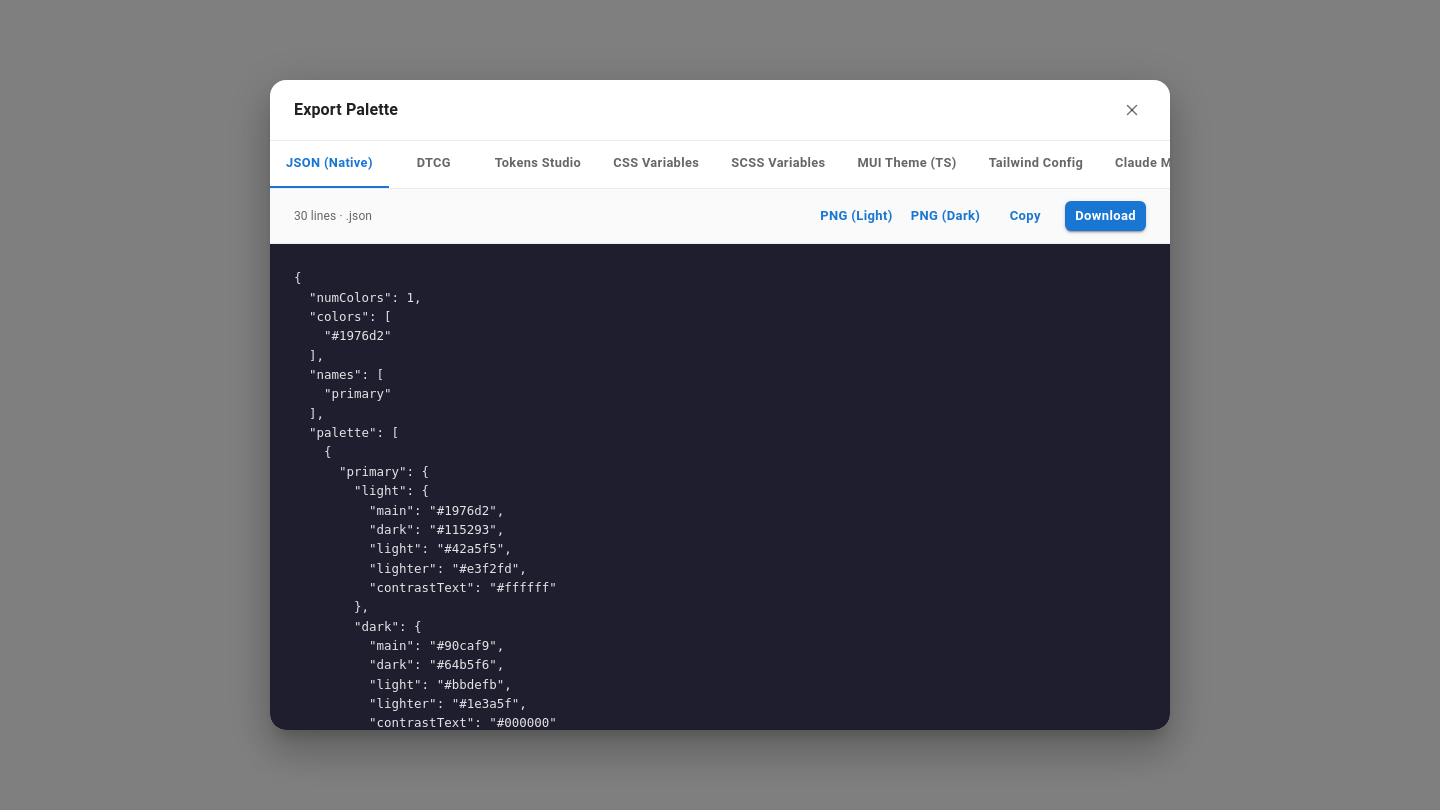
ExportHubDialog › switches to MUI Theme tab and shows TS code
The image size is (1440, 810).
What coordinates should you click on to do the following:
click the tab "MUI Theme (TS)"
I would click on:
 (907, 163)
Its box is left=842, top=141, right=973, bottom=185.
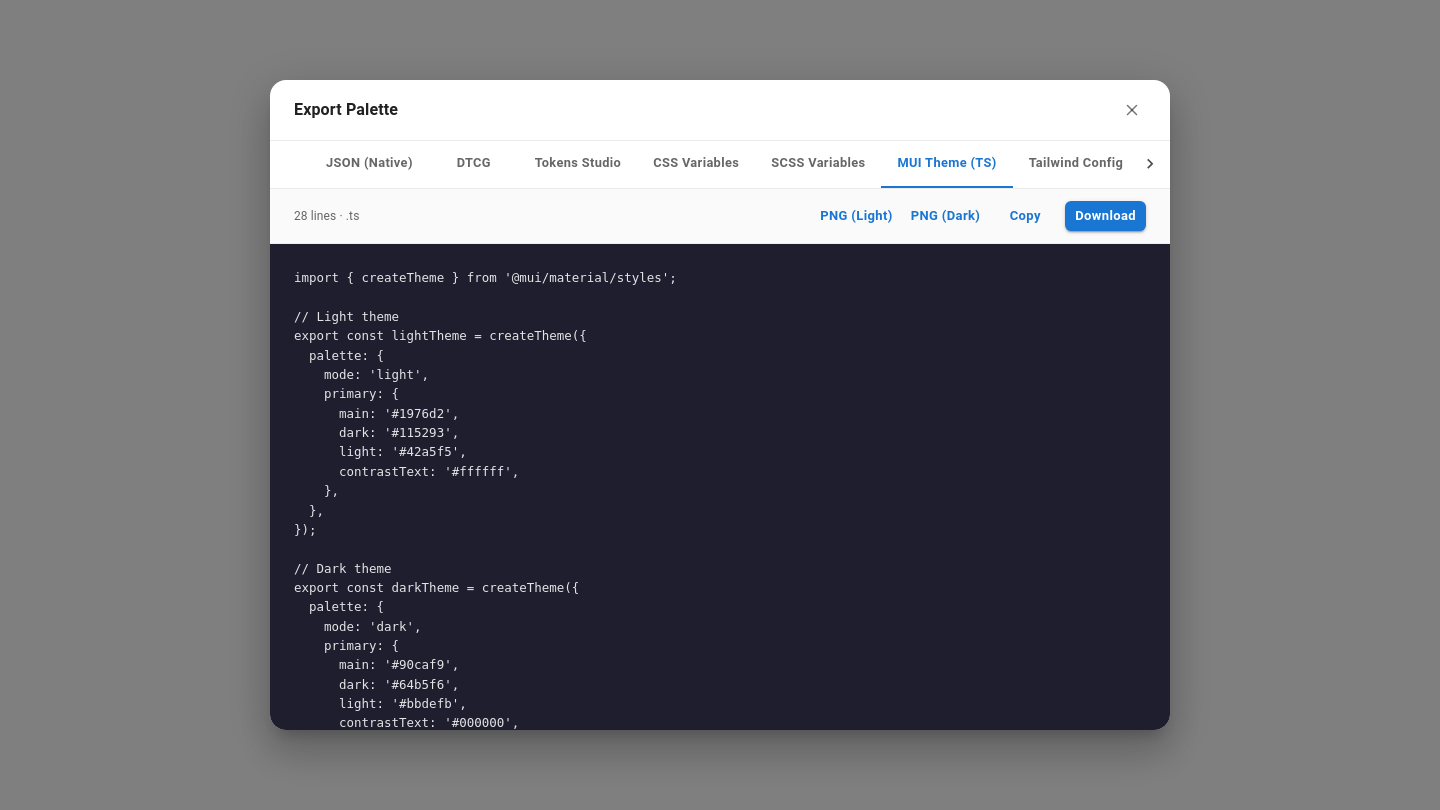
Result: the text "createTheme" is shown at left=294, top=270, right=677, bottom=730
